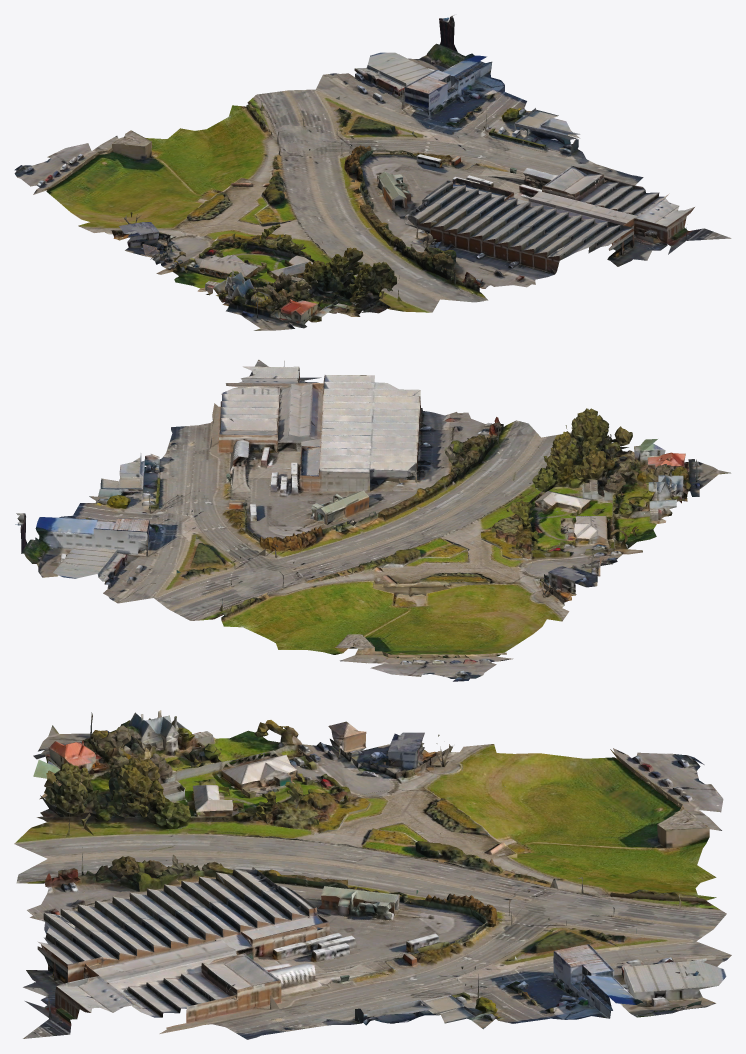
Rendered from Tile_011_002_L18.gltf.
The picture shows the model from 3 angles, top to bottom: view 1: azimuth 30°, elevation 25°; view 2: azimuth 150°, elevation 25°; view 3: azimuth 270°, elevation 25°; orthographic projection. The views are drawn at different scales.
Visible parts, largest first — view 1: Tile_+011_+002_L18; view 2: Tile_+011_+002_L18; view 3: Tile_+011_+002_L18.
Part boxes in pixels (box(x1,y1,x2,y2)): Tile_+011_+002_L18: box(14, 15, 731, 330); Tile_+011_+002_L18: box(15, 359, 730, 681); Tile_+011_+002_L18: box(14, 710, 731, 1039).
Size of the model in its own units: 221 by 27.83 by 222.
1 material, 1 textured.
